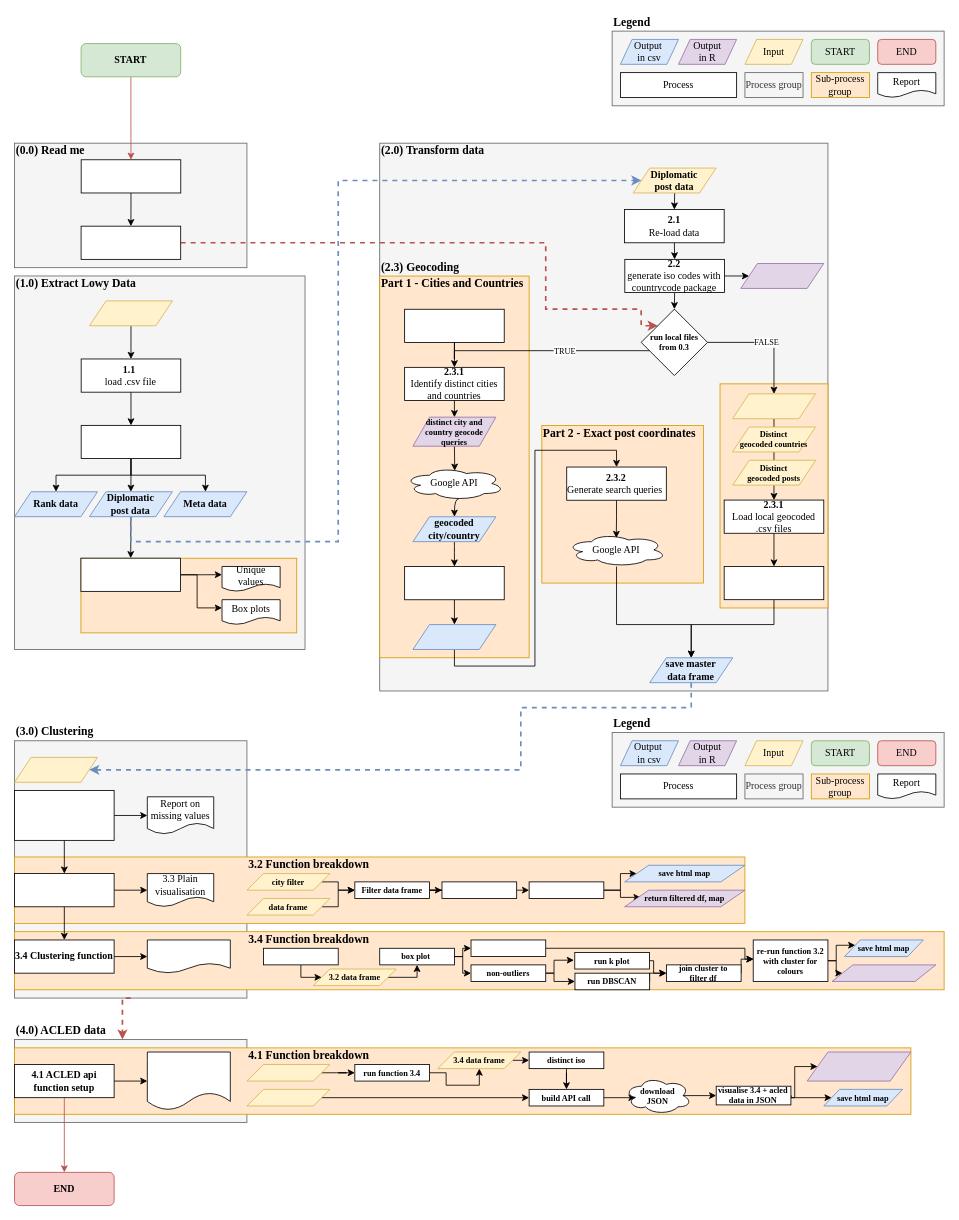
This 959x1220 diagram has some shape labels left out. Here are the shapes that lost their labels. From the top down, the centre of each, then its label:
At (130,176): "0.3 load packages".
At (130,242): "0.3 run local files T/F".
At (782,275): "Diplo. data + iso codes".
At (130,313): "Lowy GDI data".
At (454,325): "2.3.1 Generate search queries".
At (773,406): "Distinct geocoded cities".
At (130,442): "1.2 rename columns and split data set".
At (130,574): "1.3 Descriptive statistics".
At (454,583): "2.3.1 Join coordinates to master data frame".
At (773,583): "2.3.2 Join files to master dataframe".
At (454,636): "merged data frame".
At (56,769): "master data frame".
At (64,815): "3.1 Load and segment - load .csv - rearrange columns - separate na values".
At (64,890): "3.2 Define visualisation function".
At (479,889): "create sf object".
At (566,889): "map view".
At (188,956): "Visualise clustered embassies".
At (300,956): "run function 3.2".
At (508,948): "filter out outliers".
At (883,972): "return: cluster map; df; k plot;".
At (188,1080): "visualise clustered embassies with conflict event layer".
At (288,1072): "all inputs for 3.2 & 3.4".
At (858,1066): "return: acled map ; 3.4 df; k plot; acled data".
At (288,1097): "year; city T/F".
